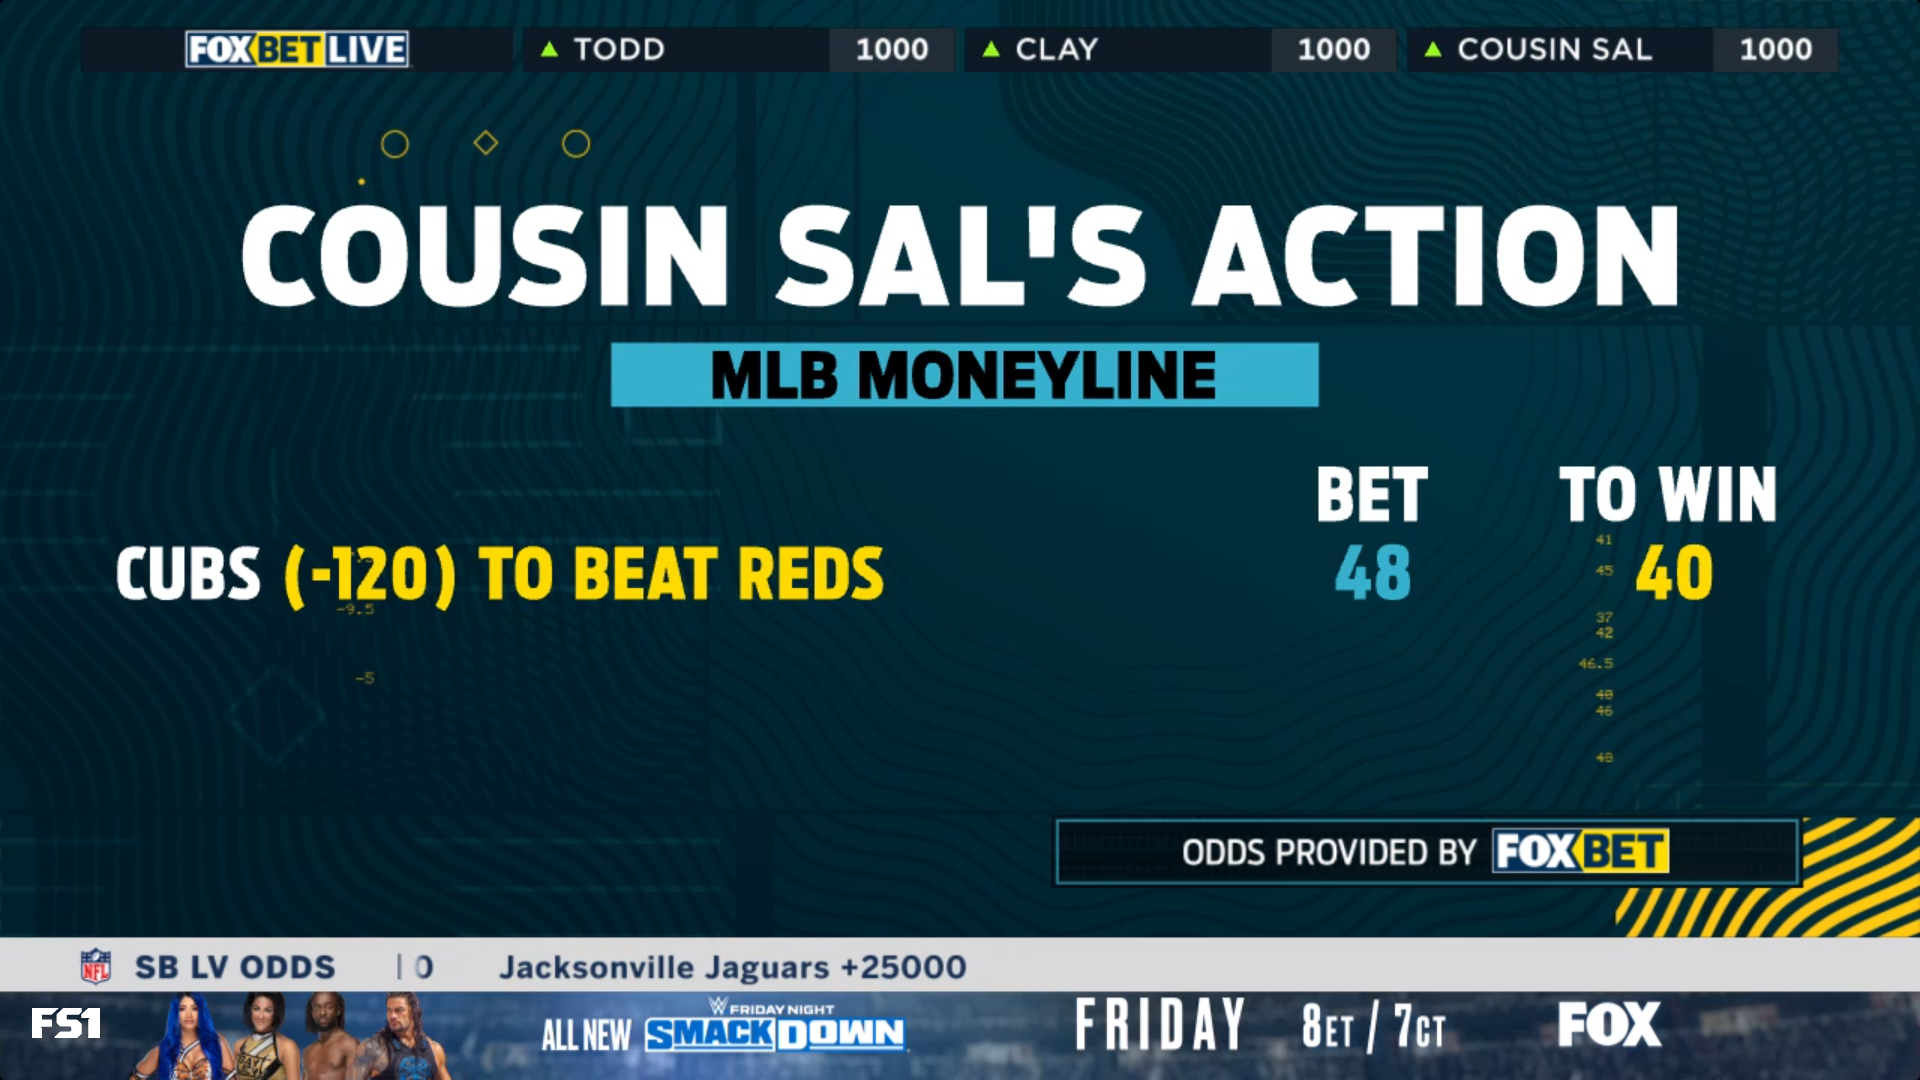Bet: (105, 531, 893, 618)
Bet Amount: (1305, 454, 1444, 613)
Subtitle: (600, 334, 1328, 419)
Title: (232, 189, 1696, 323)
To Win: (1543, 451, 1792, 615)
Top Bar: (73, 17, 1847, 80)
